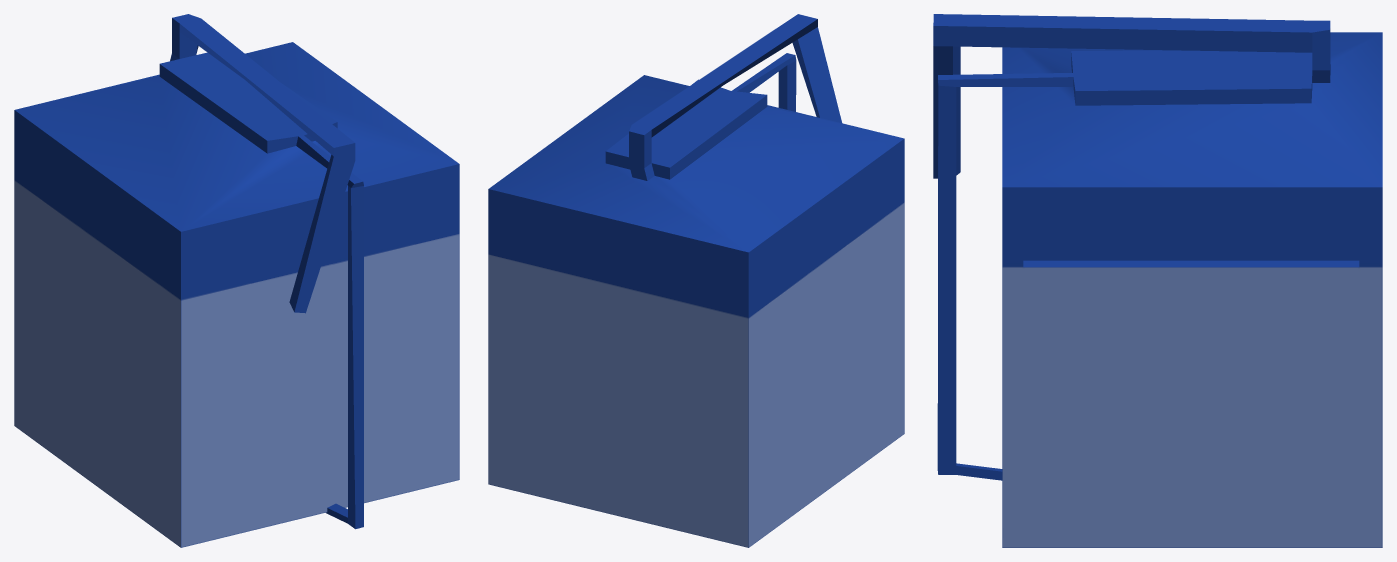
Rendered from glaciere.fbx.
3 renders of one model, left to right at view 1: azimuth 30°, elevation 25°; view 2: azimuth 150°, elevation 25°; view 3: azimuth 270°, elevation 25°, orthographic. The views are drawn at different scales.
Parts seen in each view (by area): view 1: pCube1; view 2: pCube1; view 3: pCube1.
Part boxes in pixels (left/top/right/bottom): pCube1: left=14, top=14, right=459, bottom=547; pCube1: left=488, top=14, right=904, bottom=547; pCube1: left=933, top=14, right=1382, bottom=547.
Size of the model in its own units: 1.3 by 1.76 by 1.6.
1 material, 1 textured.
